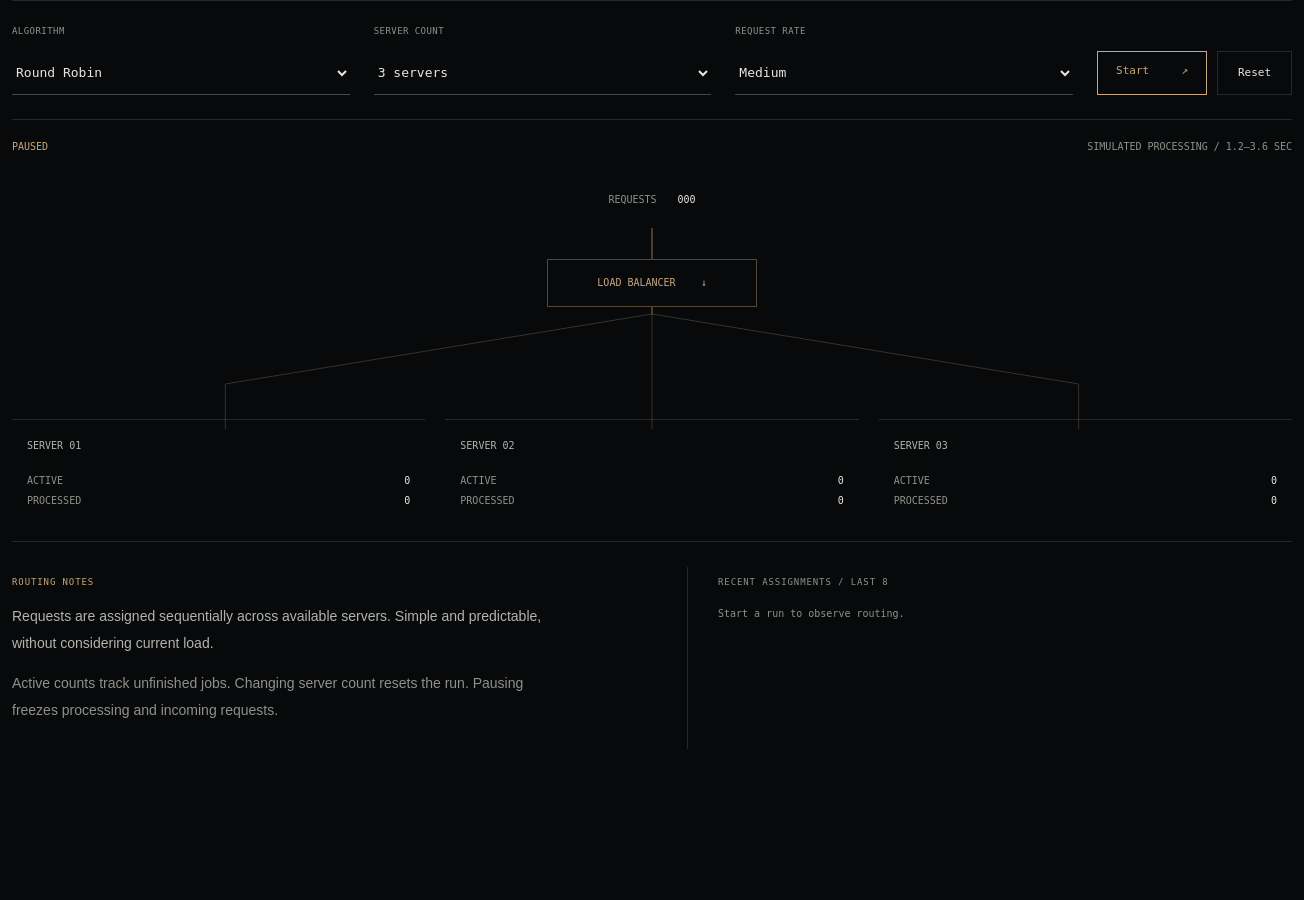
Test: server count changes safely reset jobs, counters, events and running state
Click the button "Start ↗": [1152, 72] box x1=1097 y1=50 x2=1207 y2=94
Wait 1600 ms
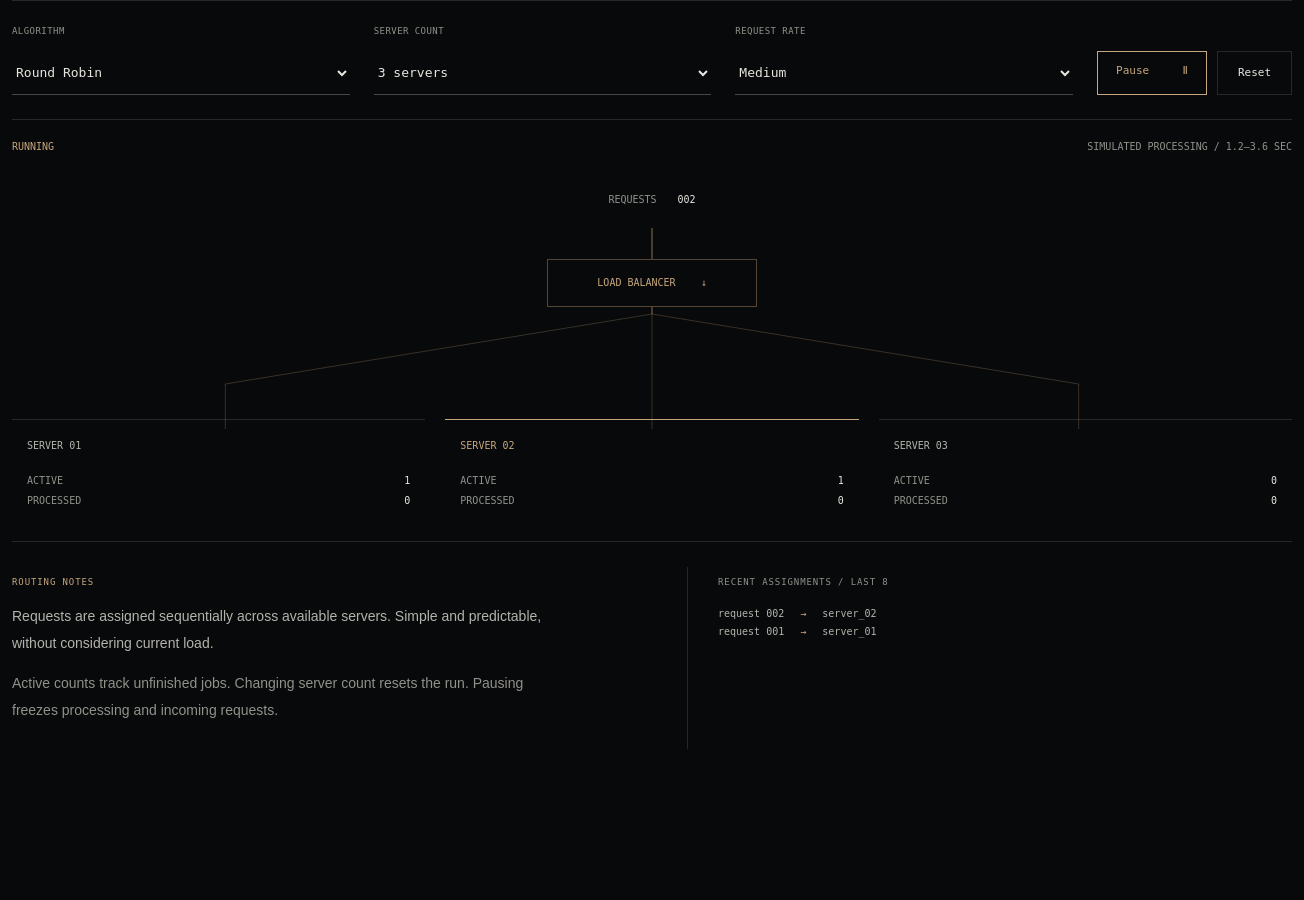
Select "2 servers" in the dropdown labelled "SERVER COUNT": [543, 72] box x1=374 y1=50 x2=711 y2=94
Wait 5000 ms
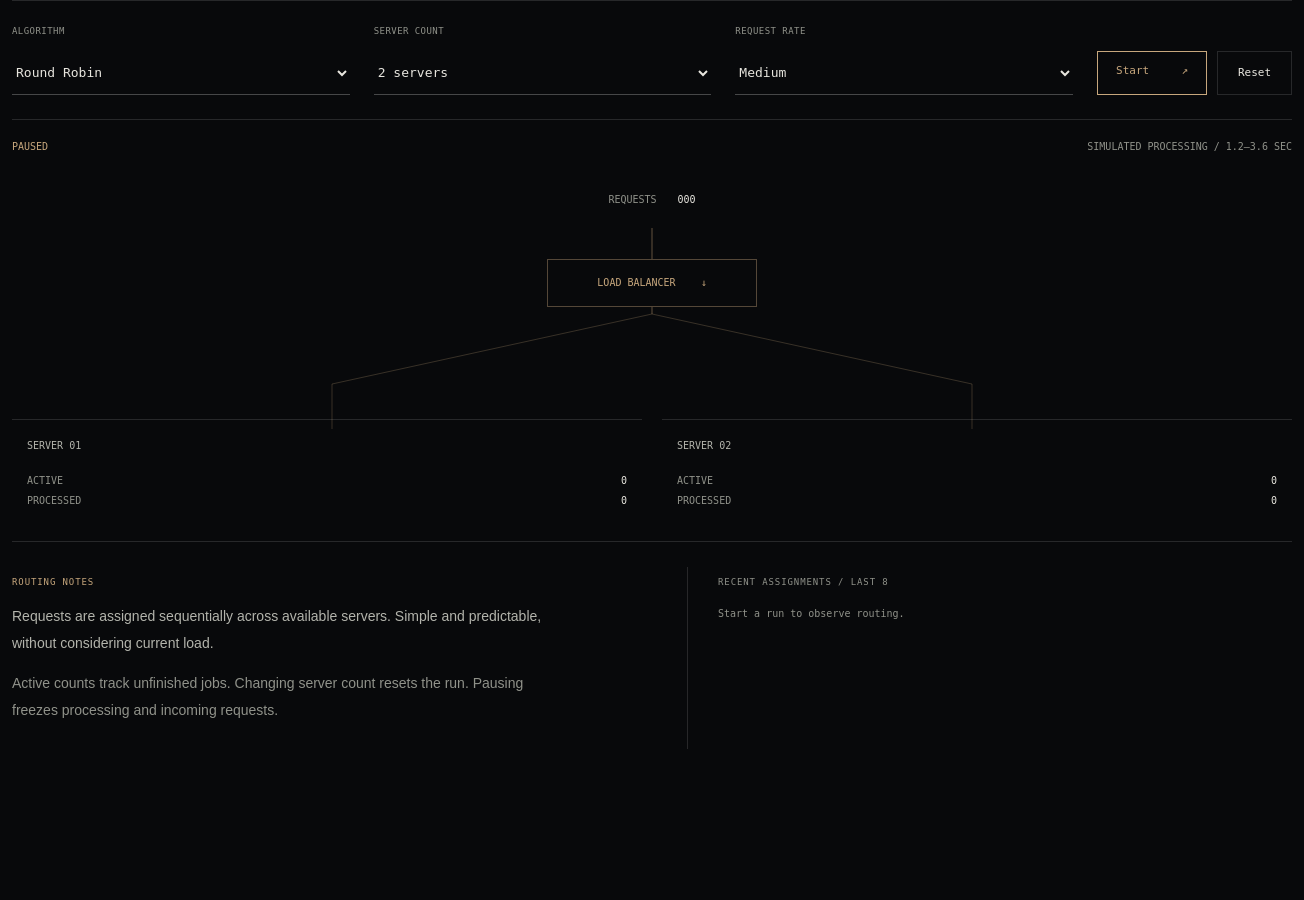
Now the number of headings is 2, box x1=27 y1=440 x2=81 y2=450; x1=677 y1=440 x2=731 y2=450
Now the message "PAUSED" is shown, box x1=12 y1=138 x2=48 y2=156
